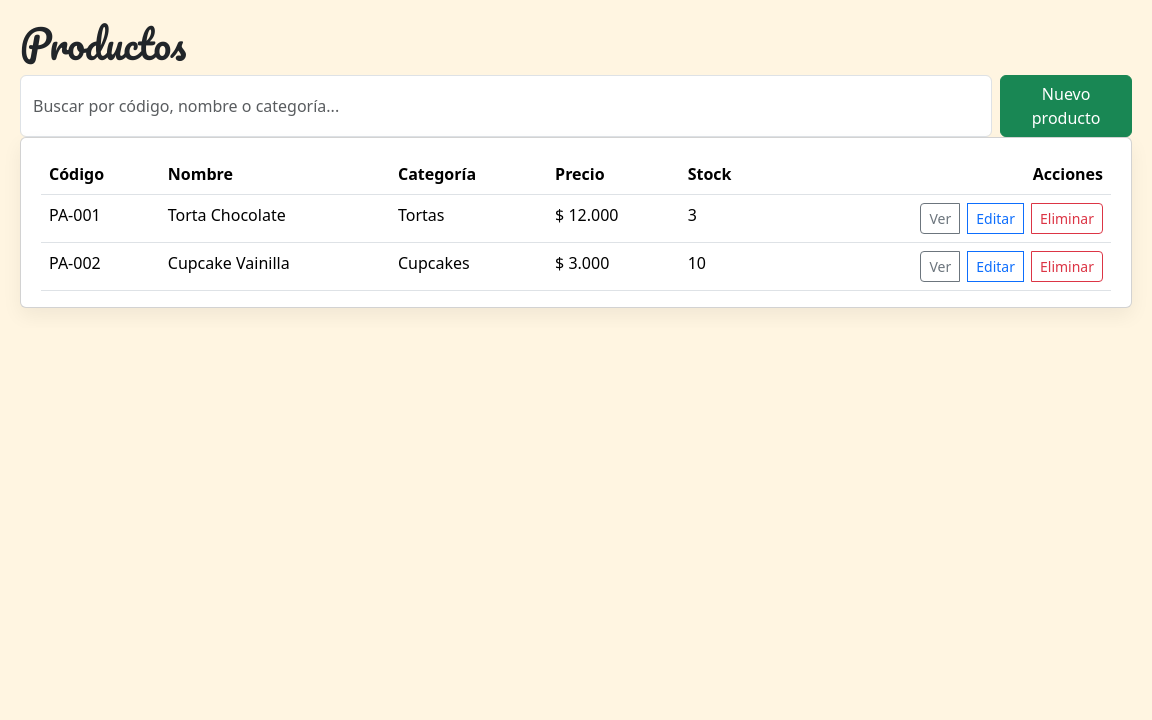
it: Admin - Products › TAU-Admin 44: Abre el formulario para crear un nuevo producto
Expected: the text "Torta Chocolate" is shown, [160,195,390,243]
Click the button "Nuevo producto" at (1066, 106), box [1000,75,1132,137]
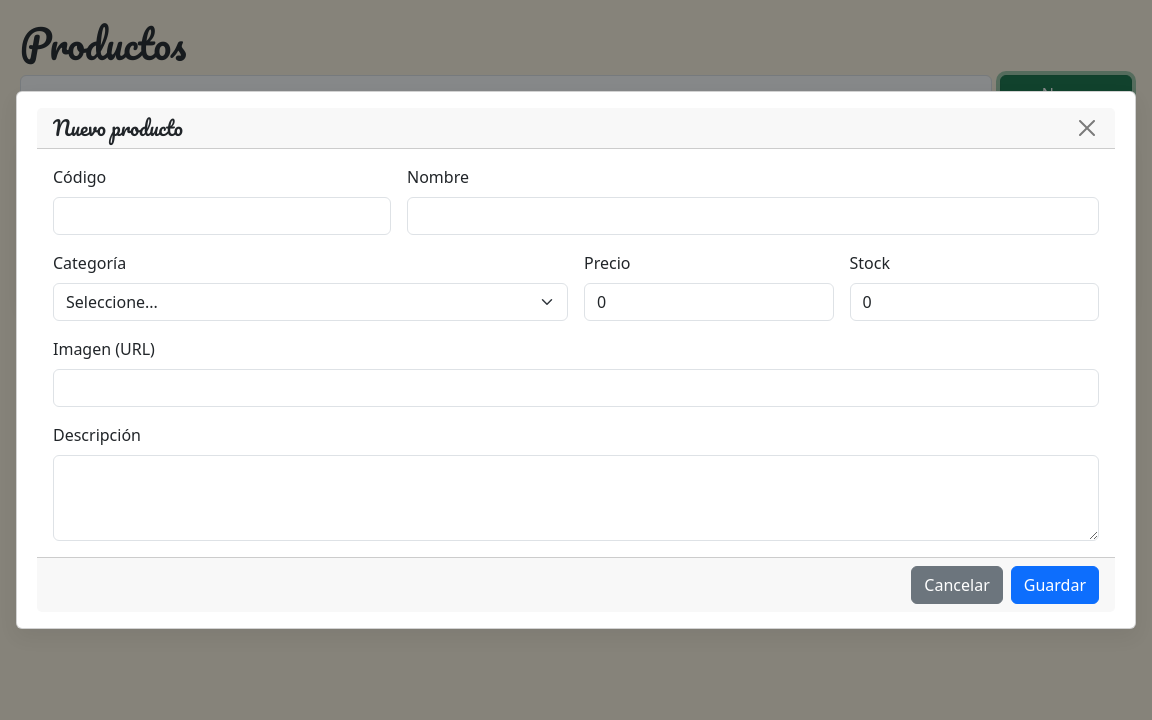
Now the button "Guardar" is shown, box [1011,566,1099,604]
Now the button "Cancelar" is shown, box [911,566,1003,604]
